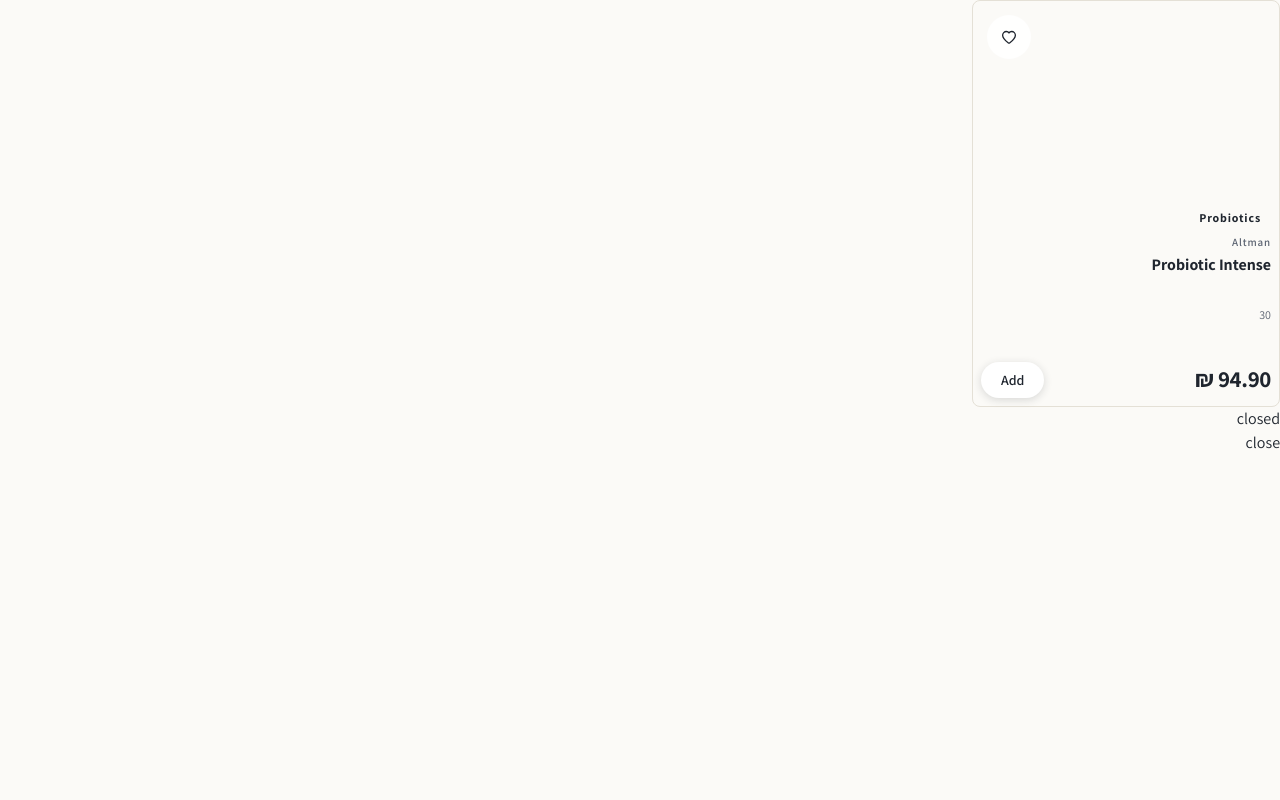
Test: the shared add-to-cart choreography › 🔴 announces the CART-WIDE count from the response, not a local guess
Click the button named "add to cart" at (1013, 380), box [981,362,1044,398]
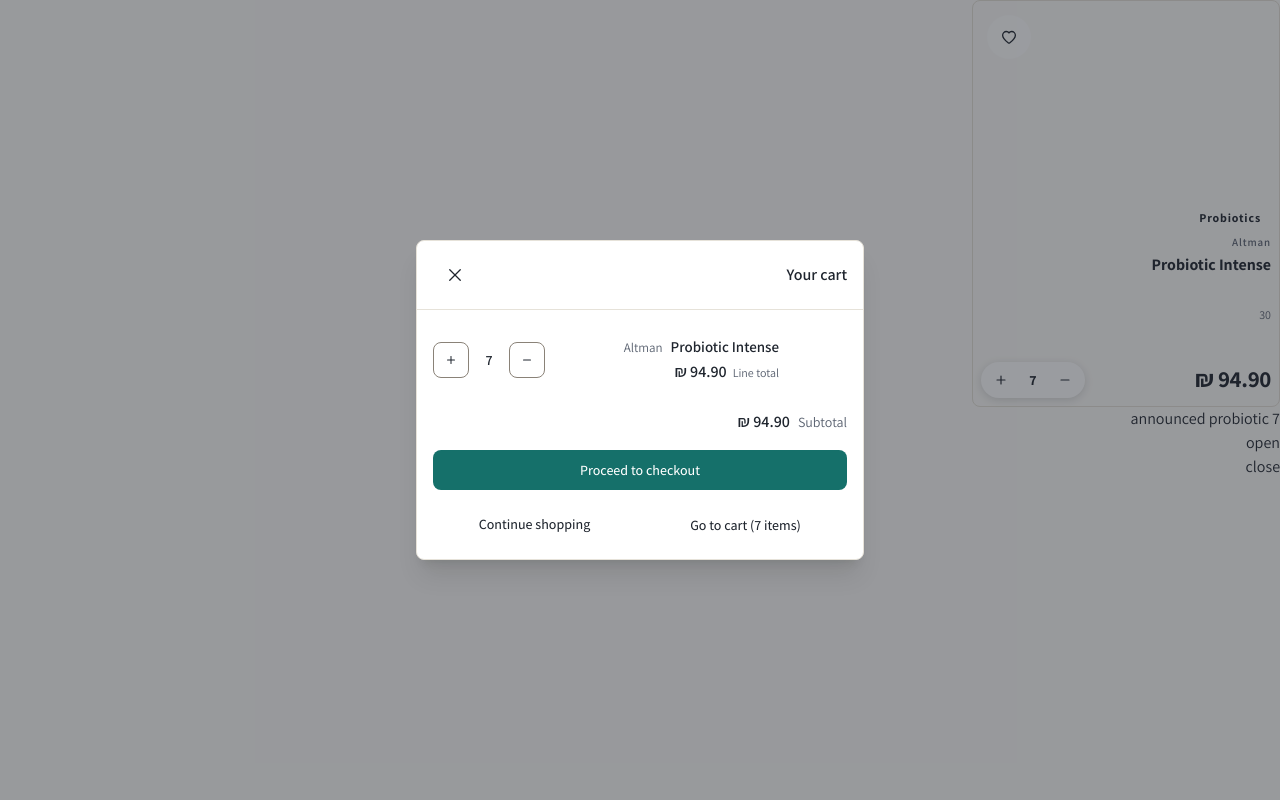
Expected: the message reads "announced probiotic 7", [1130,408,1279,429]
